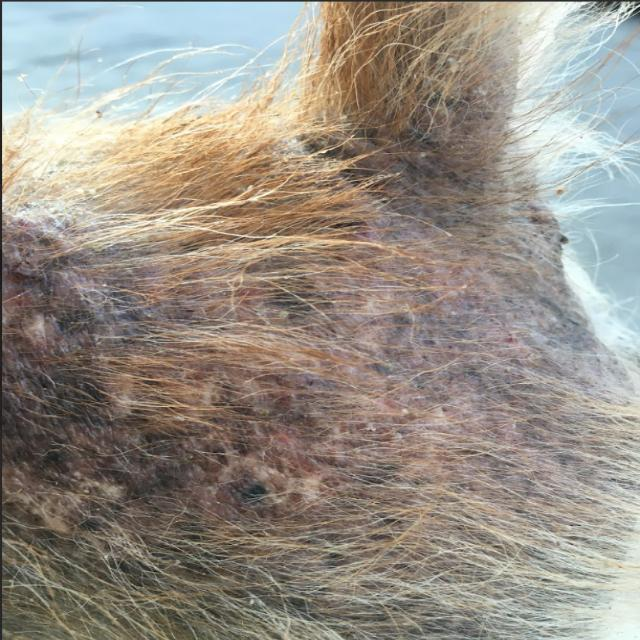demodicosis: (0, 244, 285, 514), (380, 115, 537, 398)
